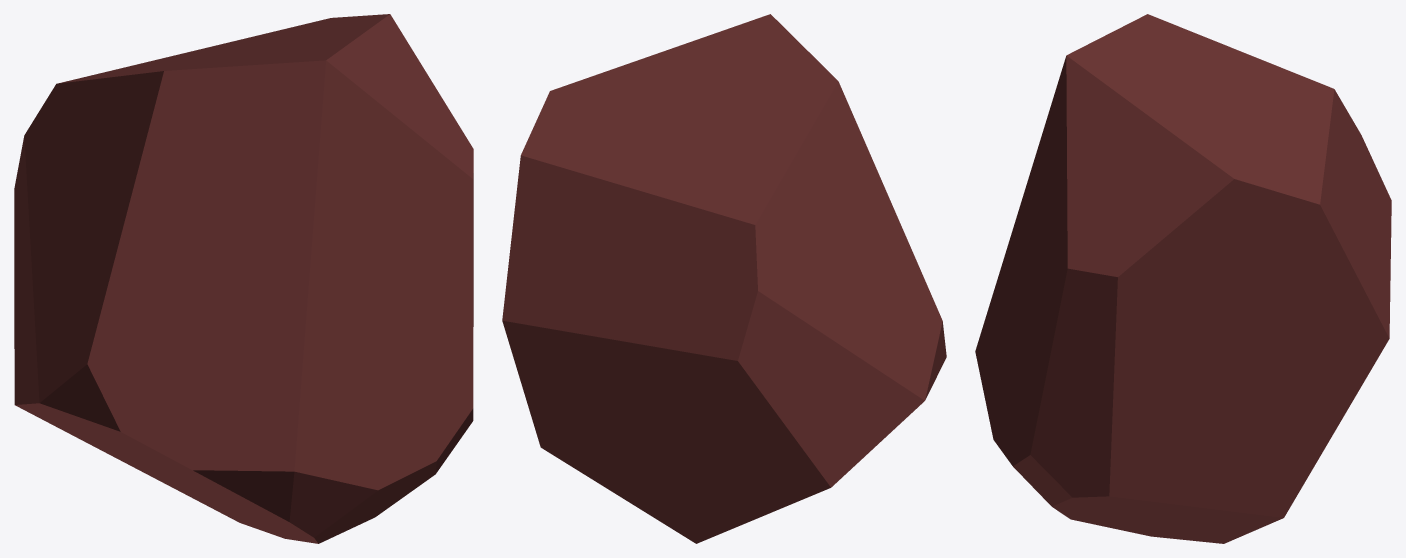
The model's file is rock_3.fbx.
The picture shows the model from 3 angles, left to right: view 1: azimuth 30°, elevation 25°; view 2: azimuth 150°, elevation 25°; view 3: azimuth 270°, elevation 25°; orthographic projection. The views are drawn at different scales.
Visible parts, largest first — view 1: Icosphere.001; view 2: Icosphere.001; view 3: Icosphere.001.
Part boxes in pixels (box(x1,y1,x2,y2)): Icosphere.001: box(14, 14, 473, 543); Icosphere.001: box(502, 14, 946, 543); Icosphere.001: box(975, 14, 1391, 543).
Size of the model in its own units: 183 by 226 by 175.
